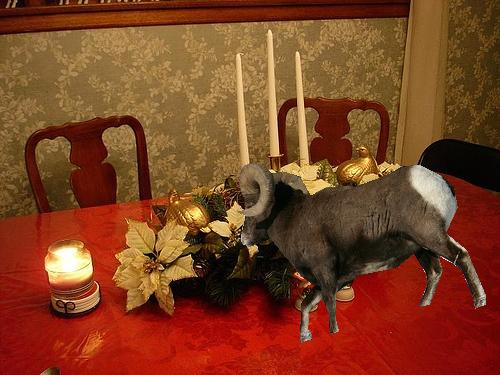tampered: (238, 164, 486, 343)
